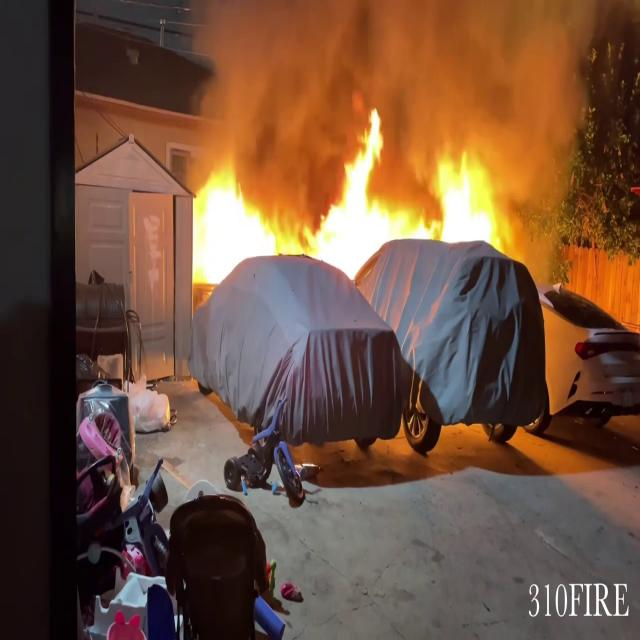Fire: (309, 103, 503, 269), (189, 155, 285, 288)
Smoke: (174, 0, 612, 150)
